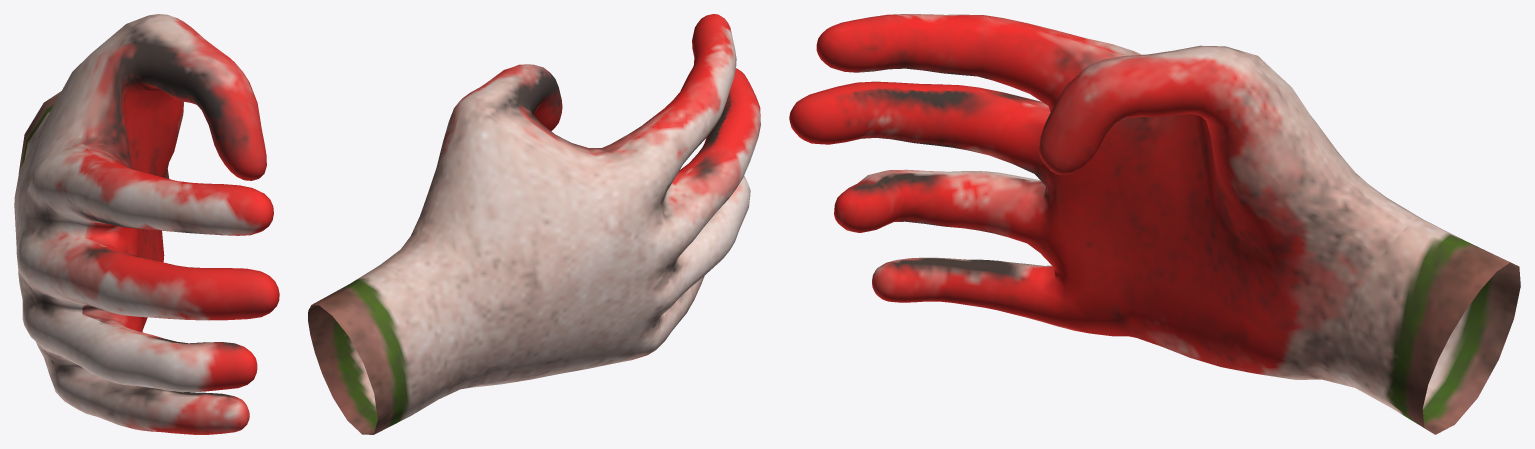
The model's file is hand.fbx.
The picture shows the model from 3 angles, left to right: view 1: azimuth 30°, elevation 25°; view 2: azimuth 150°, elevation 25°; view 3: azimuth 270°, elevation 25°; orthographic projection. The views are drawn at different scales.
Parts seen in each view (by area): view 1: RightHand; view 2: RightHand; view 3: RightHand.
Boxes of the visible parts, x1,y1,x2,y2 form: RightHand: (14,14,279,434); RightHand: (308,14,760,434); RightHand: (789,14,1520,434).
Size of the model in its own units: 10.52 by 11.48 by 21.5.
